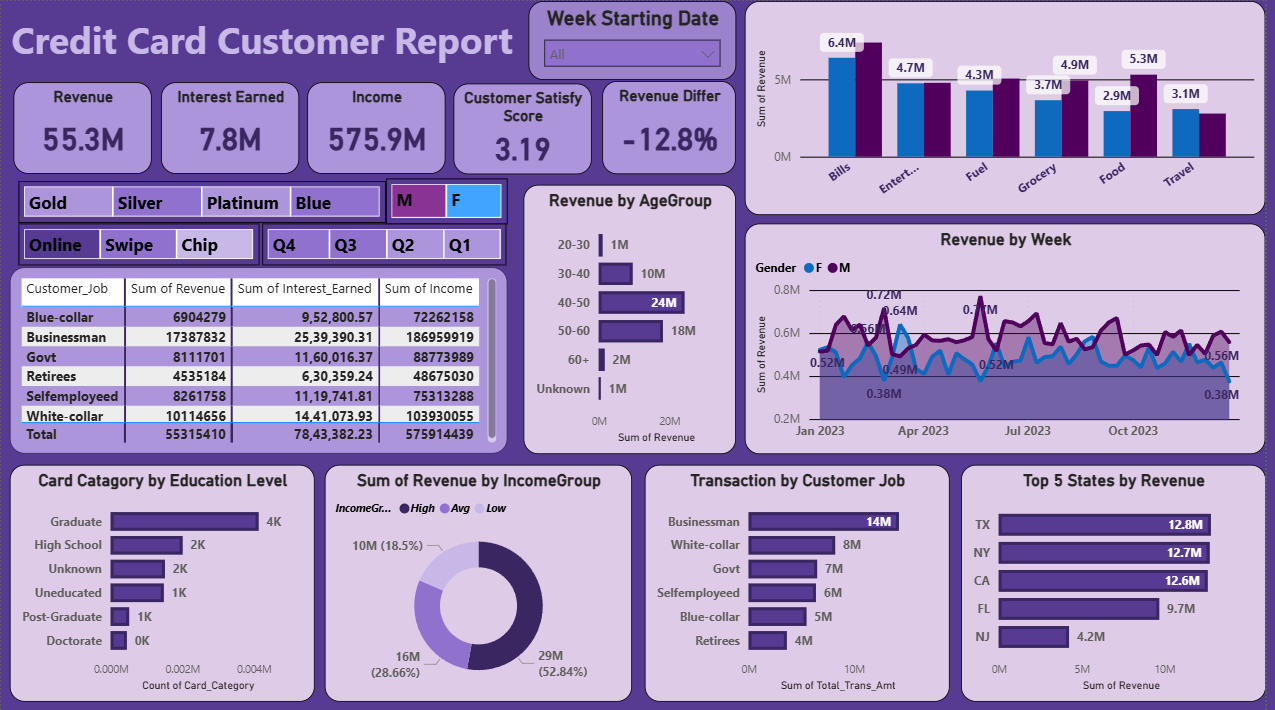

The dashboard page shown, as its layout file describes it:
{"tool":"powerbi","page":{"name":"CC Customer","canvas":[1280,720],"ordinal":2},"visuals":[{"type":"textbox","box":[0,8.7,528.7,74.6],"z":0},{"type":"barChart","title":"Card Catagory by Education Level","fields":{"Category":["customer.Education_Level"],"Y":["CountNonNull(credit_card.Card_Category)"]},"box":[8.7,470.2,308.5,240.1],"z":1000},{"type":"tableEx","fields":{"Values":["customer.Customer_Job","Sum(credit_card.Revenue)","Sum(credit_card.Interest_Earned)","Sum(customer.Income)"]},"box":[8.7,269.9,503.8,189.1],"z":2000},{"type":"card","title":"Revenue","fields":{"Values":["Sum(credit_card.Revenue)"]},"box":[12.5,82.5,140,92.5],"z":3000},{"type":"card","title":"Interest Earned","fields":{"Values":["Sum(credit_card.Interest_Earned)"]},"box":[162.5,82.5,140,92.5],"z":4000},{"type":"card","title":"Customer Satisfy Score","fields":{"Values":["Avg(customer.Cust_Satisfaction_Score)"]},"box":[458.2,83.1,139.7,91.9],"z":5000},{"type":"slicer","title":"Week Starting Date","fields":{"Values":["credit_card.Week_Start_Date"]},"box":[533.7,0,210.2,79.6],"z":6000},{"type":"card","title":"Income","fields":{"Values":["Sum(customer.Income)"]},"box":[310,82.5,140,92.5],"z":7000},{"type":"lineChart","title":"Revenue by Week","fields":{"Y":["Sum(credit_card.Revenue)"],"Series":["customer.Gender"],"Category":["credit_card.Week_Start_Date.Variation.Date Hierarchy.Year","credit_card.Week_Start_Date.Variation.Date Hierarchy.Quarter","credit_card.Week_Start_Date.Variation.Date Hierarchy.Month","credit_card.Week_Start_Date.Variation.Date Hierarchy.Day"]},"box":[752.6,225.2,527.4,233.9],"z":8000},{"type":"treemap","fields":{"Group":["customer.Gender"],"Values":["Min(credit_card.Client_Num)"]},"box":[389.4,179.1,123.2,46],"z":9000},{"type":"barChart","title":"Revenue by AgeGroup","fields":{"Category":["customer.AgeGroup"],"Y":["Sum(credit_card.Revenue)"]},"box":[528.7,186.6,215.2,272.4],"z":10000},{"type":"clusteredBarChart","title":"Transaction by Customer Job","fields":{"Category":["customer.Customer_Job"],"Y":["Sum(credit_card.Total_Trans_Amt)"]},"box":[651.8,470.2,308.5,240.1],"z":11000},{"type":"donutChart","fields":{"Y":["Sum(credit_card.Revenue)"],"Category":["customer.IncomeGroup"]},"box":[328.4,470.2,311,240.1],"z":12000},{"type":"clusteredBarChart","title":"Top 5 States by Revenue","fields":{"Y":["Sum(credit_card.Revenue)"],"Category":["customer.state_cd"]},"box":[971.5,470.2,308.5,240.1],"z":13000},{"type":"treemap","fields":{"Group":["credit_card.Card_Category"],"Values":["Min(credit_card.Client_Num)"]},"box":[17.4,182.9,371.9,42.3],"z":14000},{"type":"treemap","fields":{"Values":["Min(credit_card.Client_Num)"],"Group":["credit_card.Use Chip"]},"box":[17.4,225.2,243.8,42.3],"z":15000},{"type":"treemap","fields":{"Group":["credit_card.Qtr"],"Values":["Min(credit_card.Client_Num)"]},"box":[265,225.2,247.5,42.3],"z":16000},{"type":"card","title":"Revenue Differ","fields":{"Values":["credit_card.wow_revenue"]},"box":[608.3,80.9,135.6,94.5],"z":16001},{"type":"lineClusteredColumnComboChart","fields":{"Category":["credit_card.Exp Type"],"Series":["customer.Gender"],"Y":["Sum(credit_card.Revenue)"]},"box":[752.6,0,527.4,216.4],"z":16002}]}

Visuals, with their boxes in screenshot pixels (x1, y1, x2, y2), scaled from the page's 1280x720 canvas onto the 1275x710 screenshot:
textbox: (0, 9, 527, 82)
"Card Catagory by Education Level" barChart: (9, 464, 316, 700)
tableEx - customer.Customer_Job x Sum(credit_card.Revenue): (9, 266, 510, 453)
"Revenue" card: (12, 81, 152, 173)
"Interest Earned" card: (162, 81, 301, 173)
"Customer Satisfy Score" card: (456, 82, 596, 173)
"Week Starting Date" slicer: (532, 0, 741, 78)
"Income" card: (309, 81, 448, 173)
"Revenue by Week" lineChart: (750, 222, 1274, 453)
treemap - customer.Gender x Min(credit_card.Client_Num): (388, 177, 511, 222)
"Revenue by AgeGroup" barChart: (527, 184, 741, 453)
"Transaction by Customer Job" clusteredBarChart: (649, 464, 957, 700)
donutChart - Sum(credit_card.Revenue) x customer.IncomeGroup: (327, 464, 637, 700)
"Top 5 States by Revenue" clusteredBarChart: (968, 464, 1274, 700)
treemap - credit_card.Card_Category x Min(credit_card.Client_Num): (17, 180, 388, 222)
treemap - Min(credit_card.Client_Num) x credit_card.Use Chip: (17, 222, 260, 264)
treemap - credit_card.Qtr x Min(credit_card.Client_Num): (264, 222, 510, 264)
"Revenue Differ" card: (606, 80, 741, 173)
lineClusteredColumnComboChart - credit_card.Exp Type x customer.Gender: (750, 0, 1274, 213)
